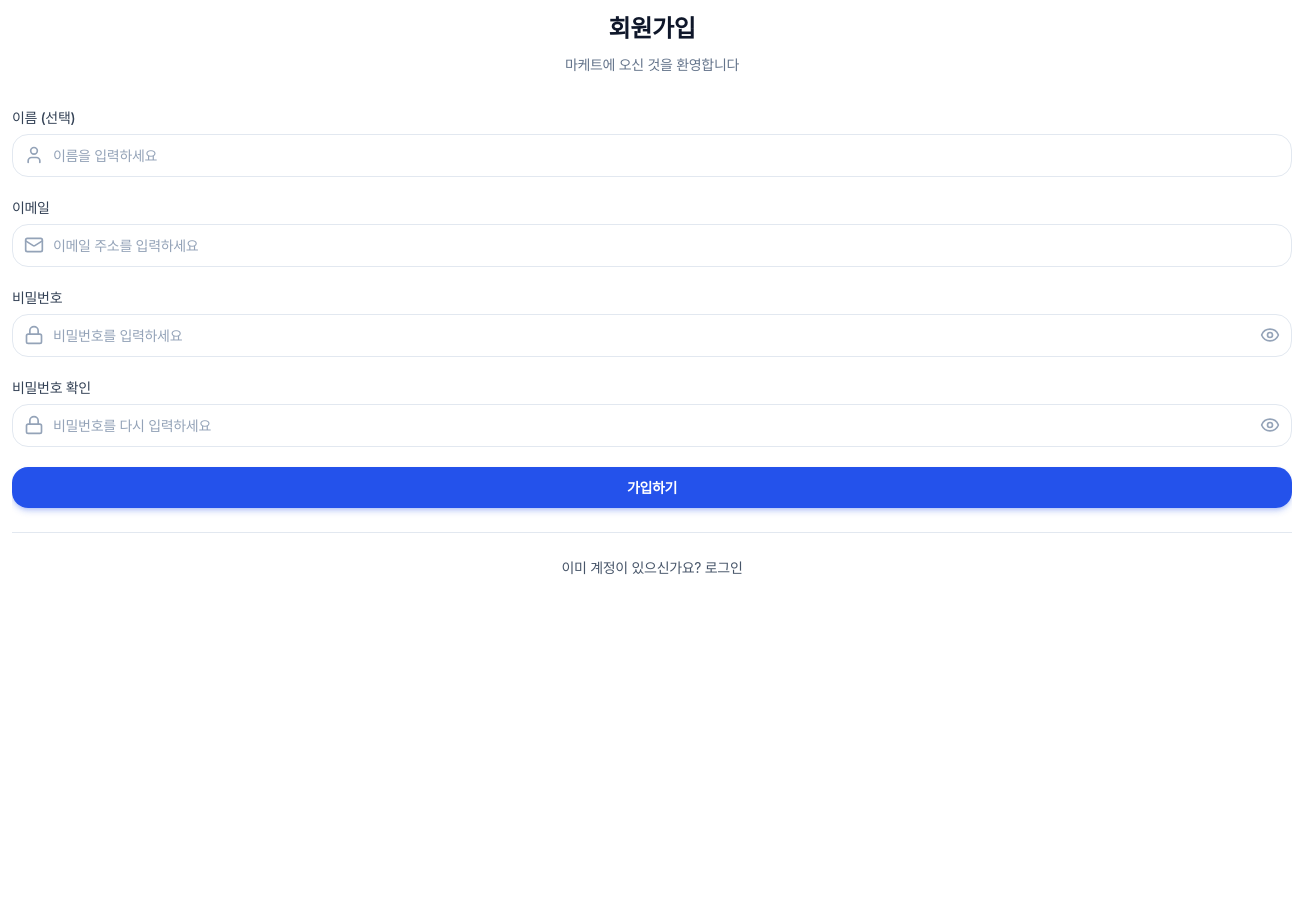
it: SignUpForm › 유효성 검사 › 비밀번호가 일치하지 않으면 에러 메시지를 표시한다
The width and height of the screenshot is (1304, 912).
Type "Password123" into the password field labelled "비밀번호".
click(652, 335); type("Password123")  # box [12,314,1292,357]
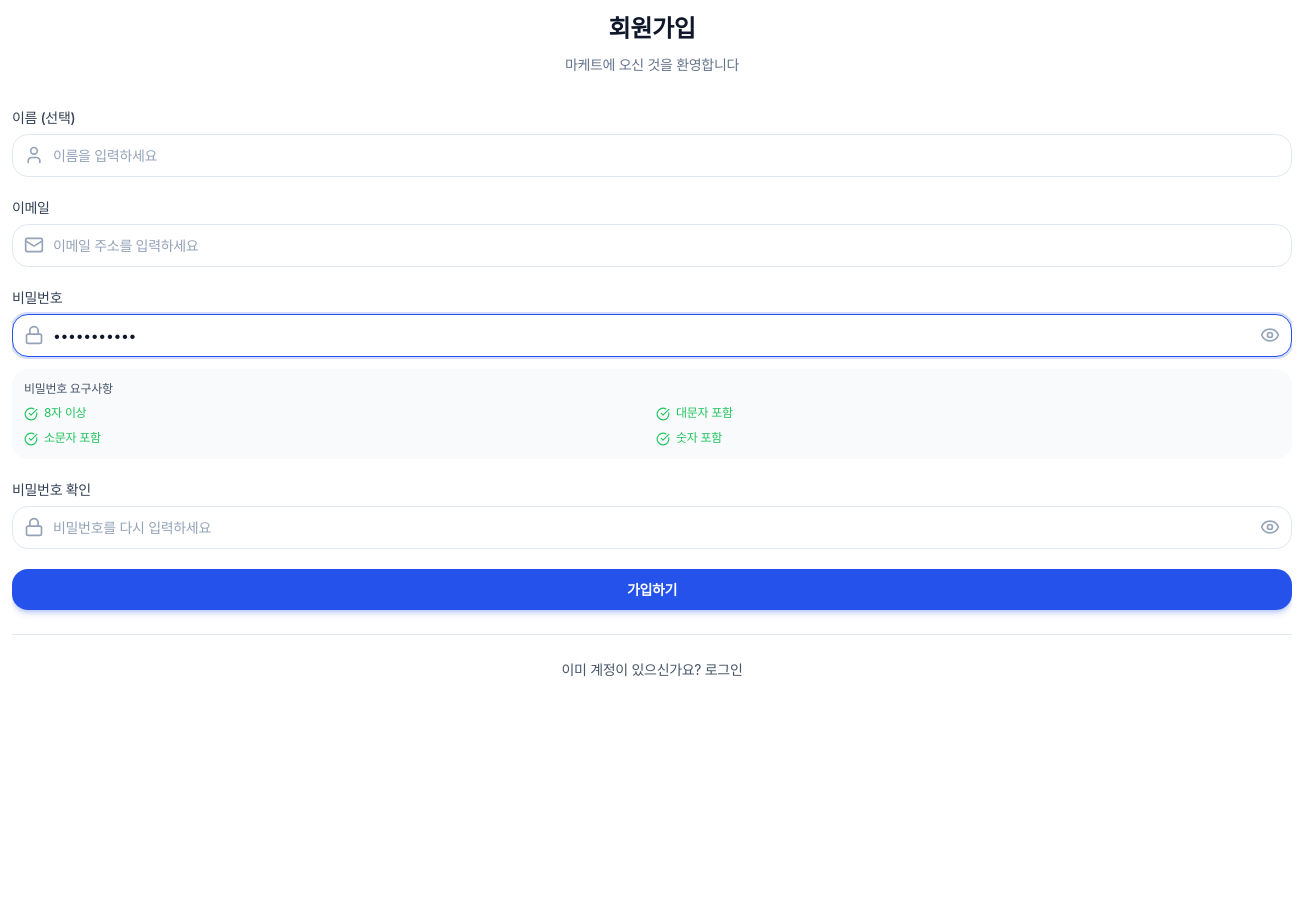
Type "DifferentPassword123" into the password field labelled "비밀번호 확인".
click(652, 528); type("DifferentPassword123")  # box [12,506,1292,549]
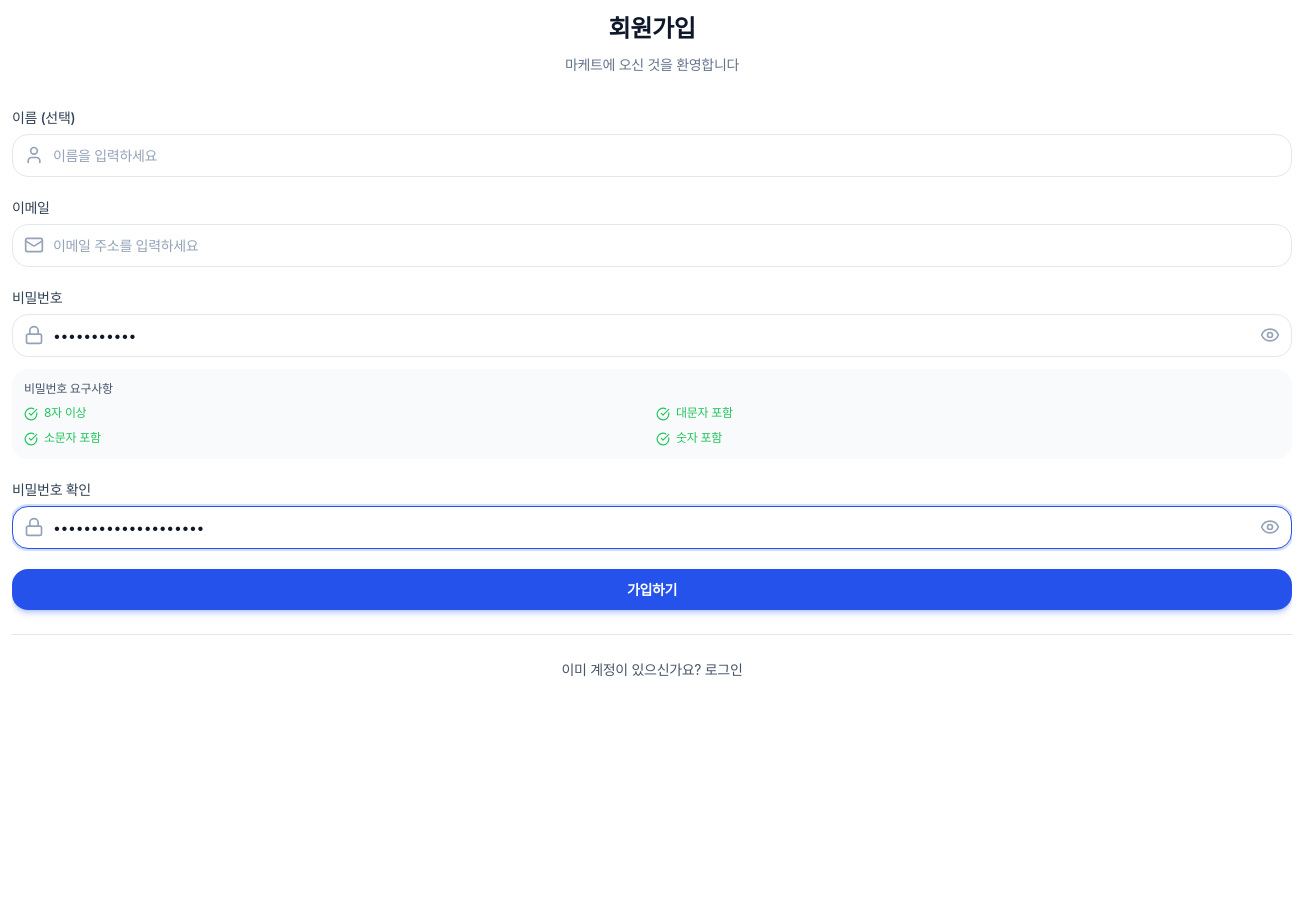
Leave the password field labelled "비밀번호 확인", box [12,506,1292,549]
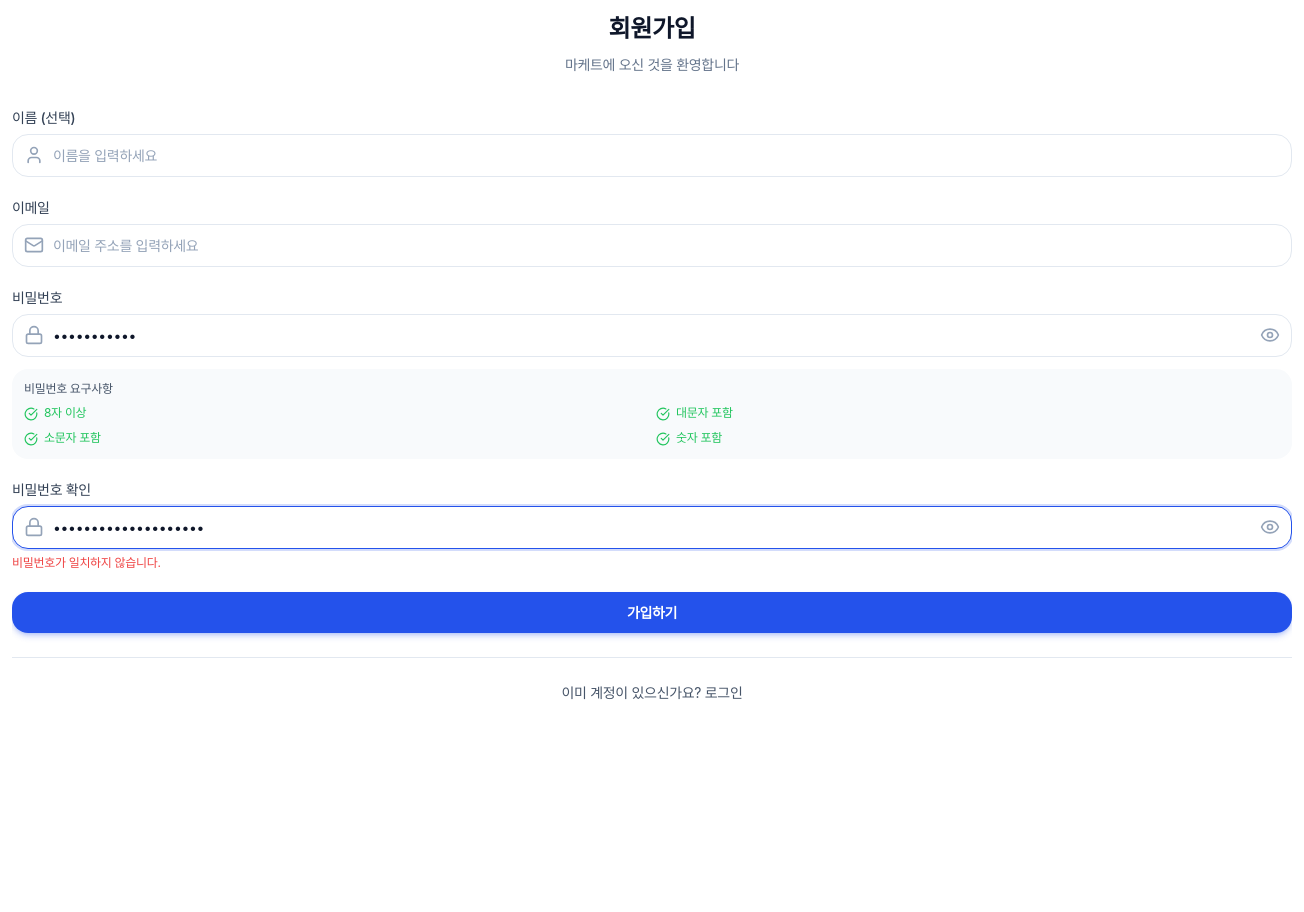
Now the text "비밀번호가 일치하지 않습니다." is shown, box [12,555,161,570]
